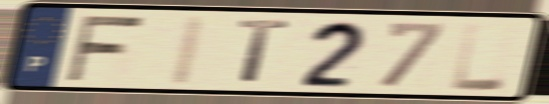2: (295, 15, 371, 91)
7: (380, 19, 449, 91)
F: (63, 13, 149, 83)
I: (165, 13, 212, 88)
L: (449, 20, 509, 93)
T: (236, 17, 294, 86)
